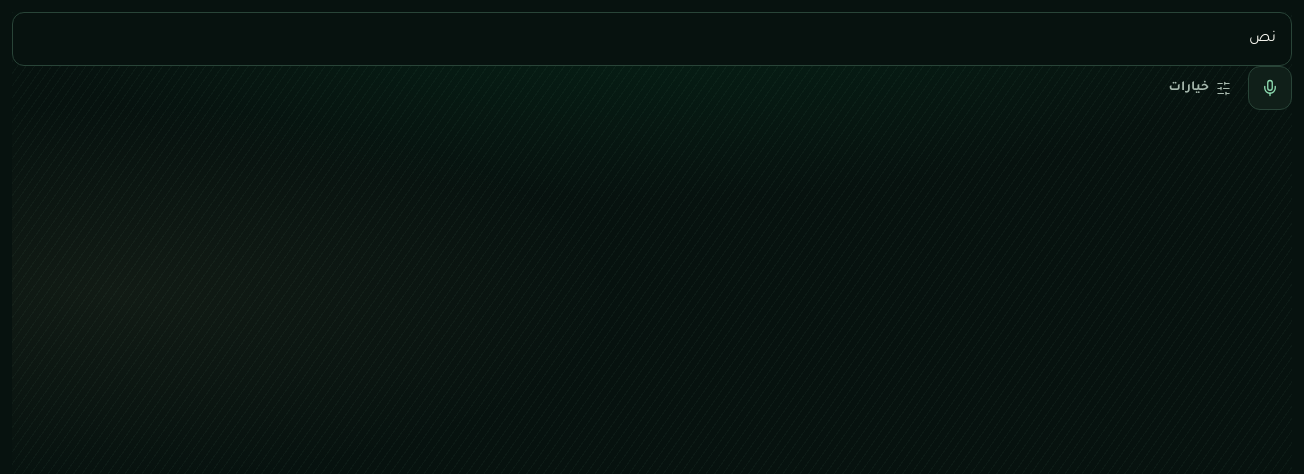
Test: stable local editor identities — no browser › appends a delayed voice result to the latest manual correction exactly once
The width and height of the screenshot is (1304, 474).
Click the button named "إملاء صوتي".
click(1270, 88)  # box [1248,66,1292,110]
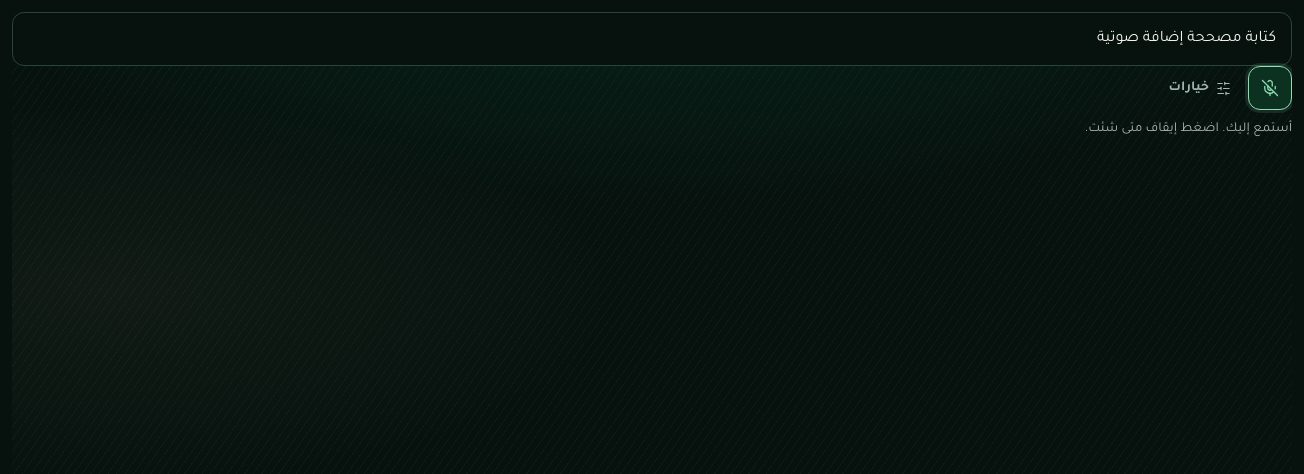
Expected: the field holds "كتابة مصححة إضافة صوتية", [12,12,1292,66]
